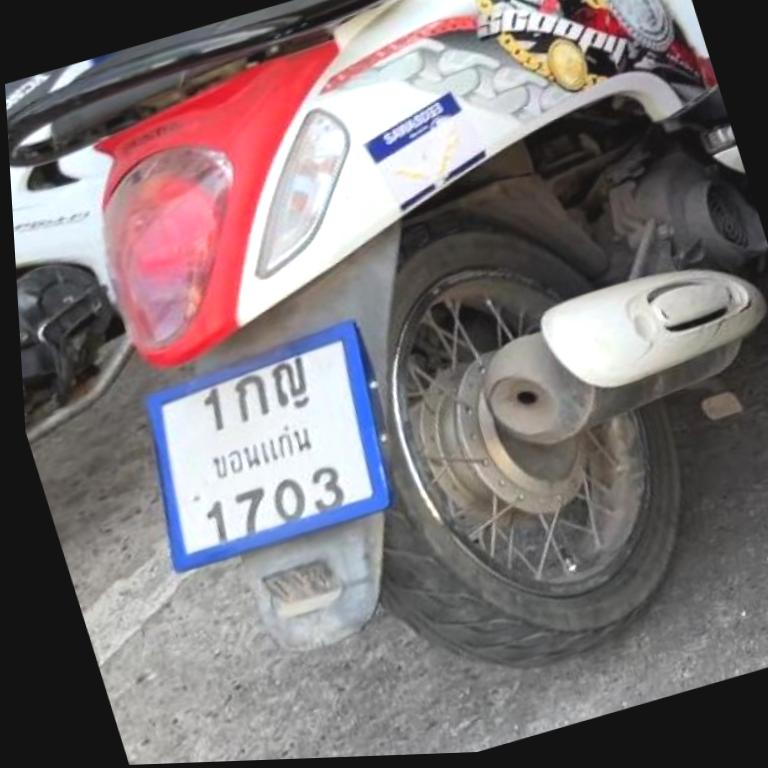license plate: (148, 321, 388, 570)
